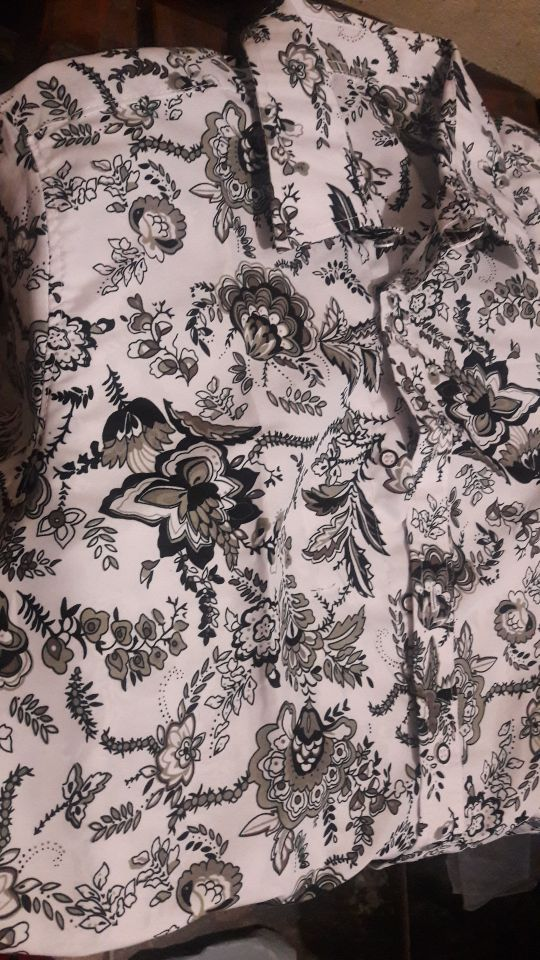shirts: (36, 16, 534, 902)
